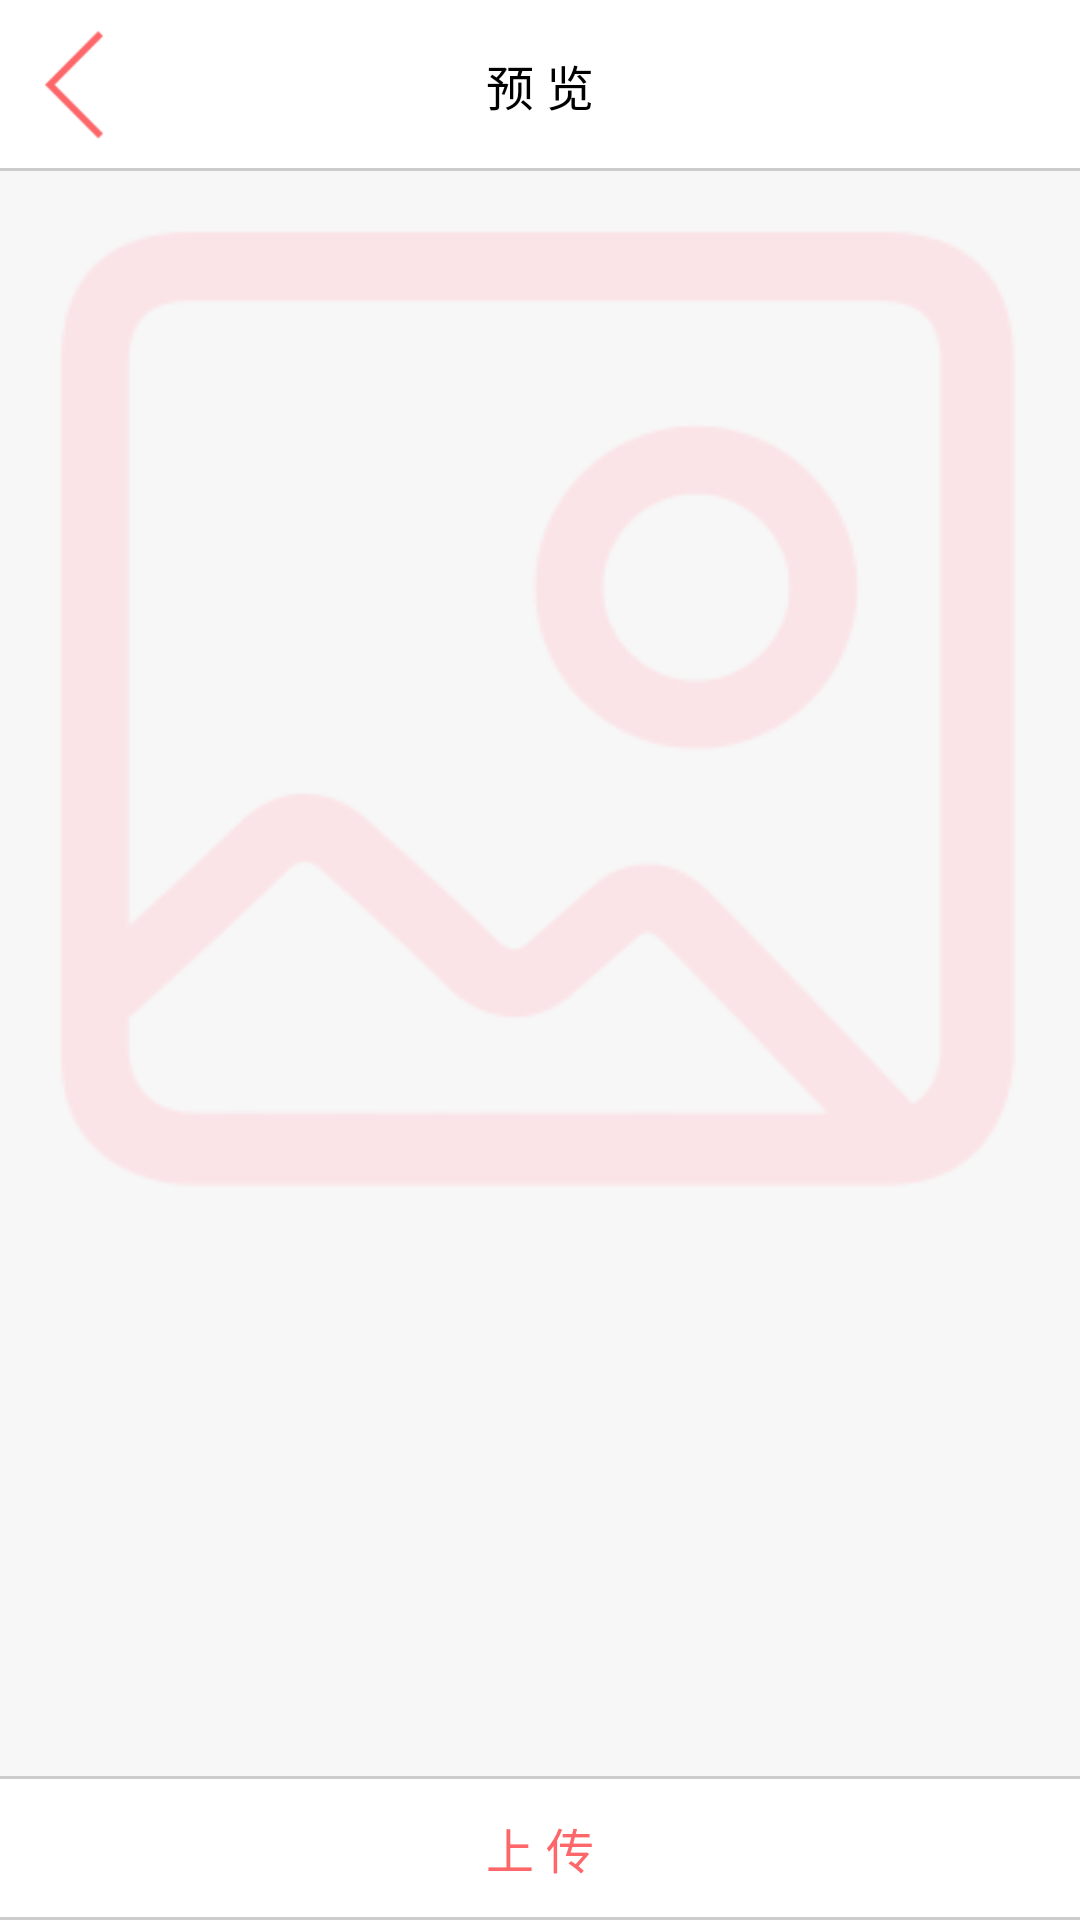

Icons on this 1080×1920 Android screen, each with the point to tap as [x,y]:
back: [74,85]
